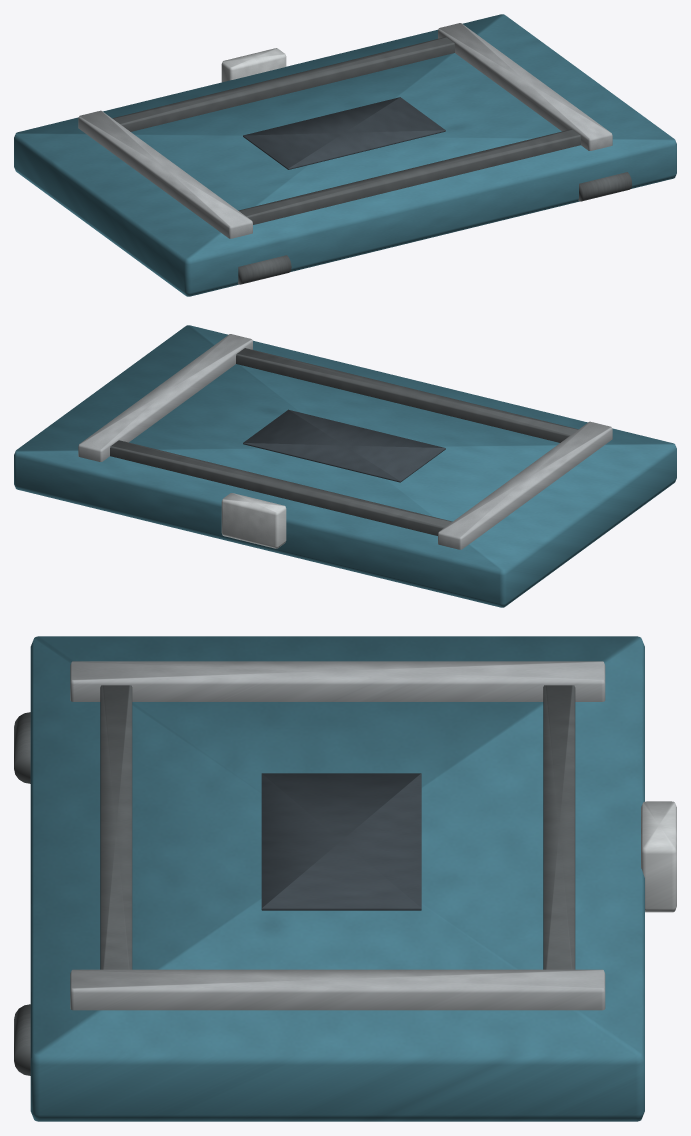
Rendered from cache_lid.glb.
3 views of the same model, one above another, from view 1: azimuth 30°, elevation 25°; view 2: azimuth 150°, elevation 25°; view 3: azimuth 270°, elevation 25° (orthographic). The views are drawn at different scales.
Visible parts, largest first — view 1: VIS_StampedLid, VIS_StencilLabel, VIS_CrossRib_-0.067, VIS_CrossRib_-0.413, VIS_ReinforcedLidRib_-0.285, VIS_ReinforcedLidRib_0.285, VIS_FrontHasp, VIS_HingePin_-0.27, VIS_HingePin_0.27; view 2: VIS_StampedLid, VIS_StencilLabel, VIS_CrossRib_-0.413, VIS_CrossRib_-0.067, VIS_ReinforcedLidRib_-0.285, VIS_ReinforcedLidRib_0.285, VIS_FrontHasp; view 3: VIS_StampedLid, VIS_ReinforcedLidRib_0.285, VIS_StencilLabel, VIS_ReinforcedLidRib_-0.285, VIS_CrossRib_-0.067, VIS_CrossRib_-0.413, VIS_FrontHasp, VIS_HingePin_-0.27, VIS_HingePin_0.27.
Part boxes in pixels (left/top/right/bottom): VIS_StampedLid: left=14, top=14, right=676, bottom=296; VIS_StencilLabel: left=243, top=97, right=445, bottom=169; VIS_CrossRib_-0.067: left=238, top=129, right=580, bottom=224; VIS_CrossRib_-0.413: left=112, top=37, right=454, bottom=131; VIS_ReinforcedLidRib_-0.285: left=78, top=110, right=252, bottom=238; VIS_ReinforcedLidRib_0.285: left=438, top=23, right=612, bottom=150; VIS_FrontHasp: left=221, top=48, right=286, bottom=82; VIS_HingePin_-0.27: left=238, top=255, right=291, bottom=284; VIS_HingePin_0.27: left=578, top=172, right=632, bottom=201; VIS_StampedLid: left=14, top=325, right=676, bottom=607; VIS_StencilLabel: left=243, top=409, right=445, bottom=482; VIS_CrossRib_-0.413: left=110, top=440, right=452, bottom=535; VIS_CrossRib_-0.067: left=236, top=348, right=578, bottom=442; VIS_ReinforcedLidRib_-0.285: left=438, top=421, right=612, bottom=549; VIS_ReinforcedLidRib_0.285: left=78, top=334, right=252, bottom=461; VIS_FrontHasp: left=221, top=493, right=286, bottom=548; VIS_StampedLid: left=30, top=636, right=644, bottom=1121; VIS_ReinforcedLidRib_0.285: left=70, top=969, right=605, bottom=1010; VIS_StencilLabel: left=261, top=773, right=421, bottom=910; VIS_ReinforcedLidRib_-0.285: left=70, top=661, right=605, bottom=701; VIS_CrossRib_-0.067: left=100, top=685, right=132, bottom=969; VIS_CrossRib_-0.413: left=543, top=685, right=575, bottom=969; VIS_FrontHasp: left=641, top=801, right=676, bottom=912; VIS_HingePin_-0.27: left=14, top=712, right=30, bottom=783; VIS_HingePin_0.27: left=14, top=1004, right=30, bottom=1075.
Size of the model in its own units: 0.78 by 0.085 by 0.518.
Materials: 6 (6 with a texture image).
